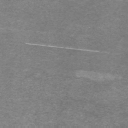finishing roll printing: (24, 42, 122, 55)
